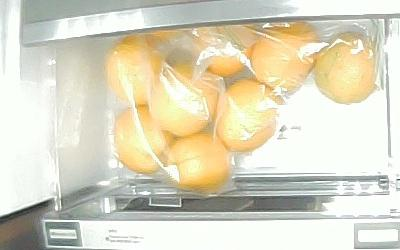orange_vinyl: (150, 63, 218, 137), (250, 22, 319, 92), (313, 31, 377, 105), (214, 78, 277, 153), (114, 103, 177, 174), (106, 34, 165, 105), (167, 133, 230, 192), (193, 22, 257, 78)
